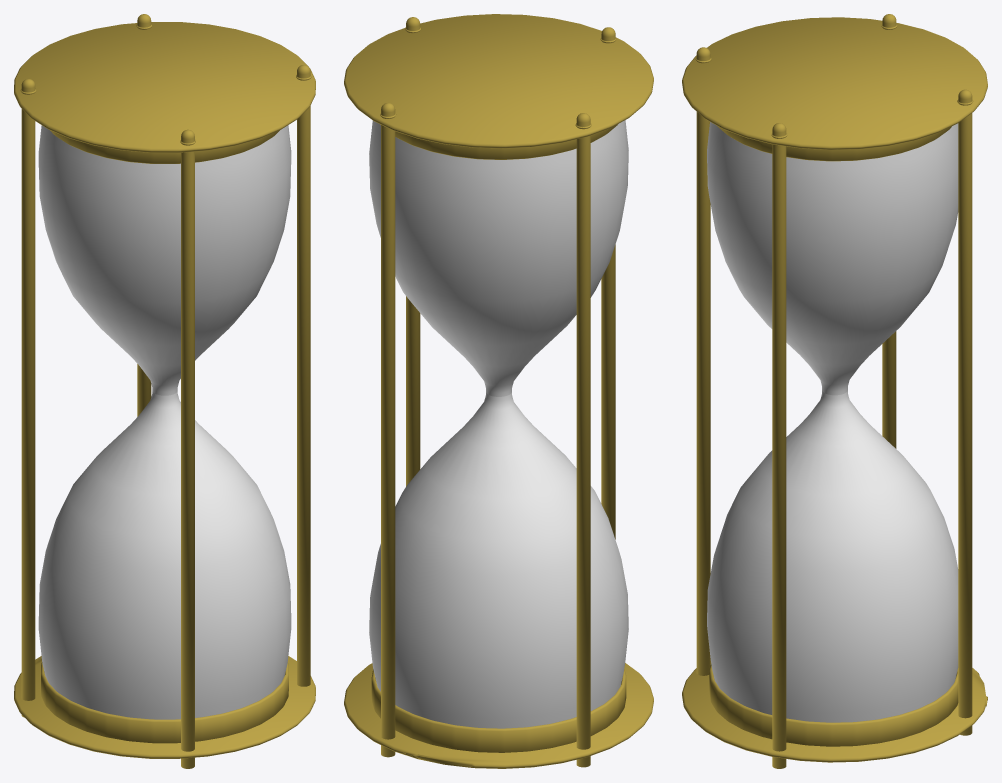
Rendered from Hourglass.fbx.
3 views of the same model, side by side, from view 1: azimuth 30°, elevation 25°; view 2: azimuth 150°, elevation 25°; view 3: azimuth 270°, elevation 25° (orthographic). The views are drawn at different scales.
Parts seen in each view (by area): view 1: Hourglass With Sand; view 2: Hourglass With Sand; view 3: Hourglass With Sand.
Part boxes in pixels (x1,y1,x2,y2): Hourglass With Sand: (14,14,315,768); Hourglass With Sand: (344,14,653,768); Hourglass With Sand: (682,14,987,768).
Size of the model in its own units: 72.25 by 167 by 72.25.
